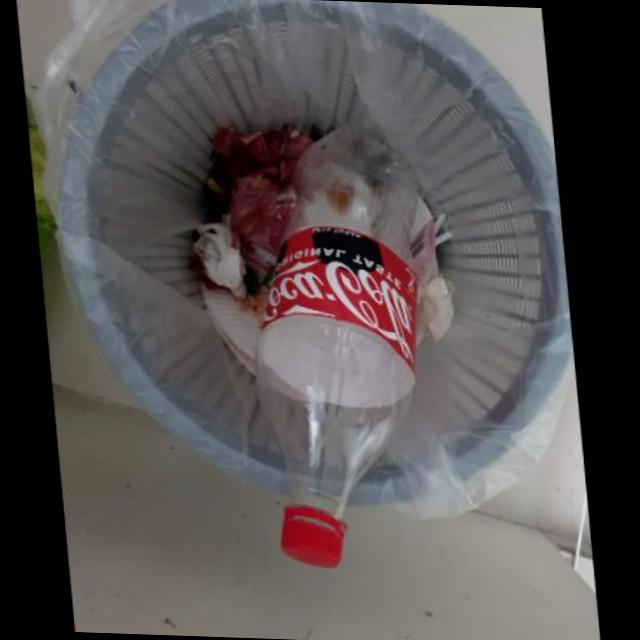carton: (196, 284, 251, 370), (196, 277, 256, 346)
chai_nhua_pet: (249, 114, 414, 560)
giay: (419, 267, 453, 330)
vo_rau_cu: (205, 118, 309, 249), (189, 211, 240, 290)
